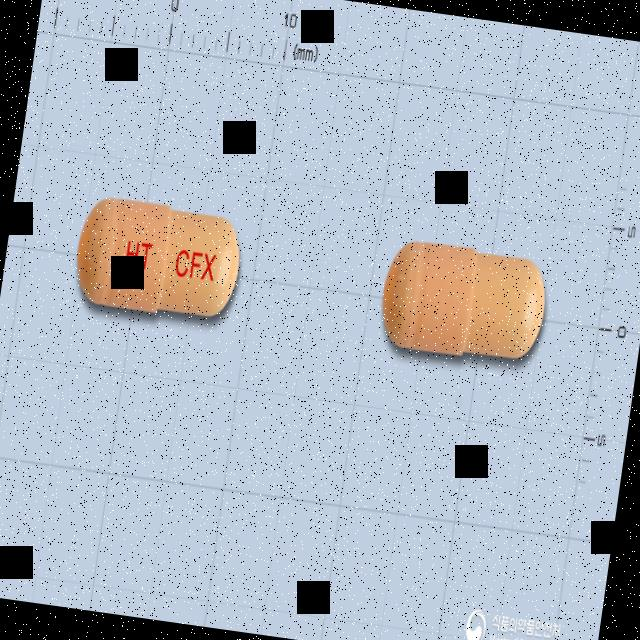Cefaxime Cap: (64, 185, 252, 339)
